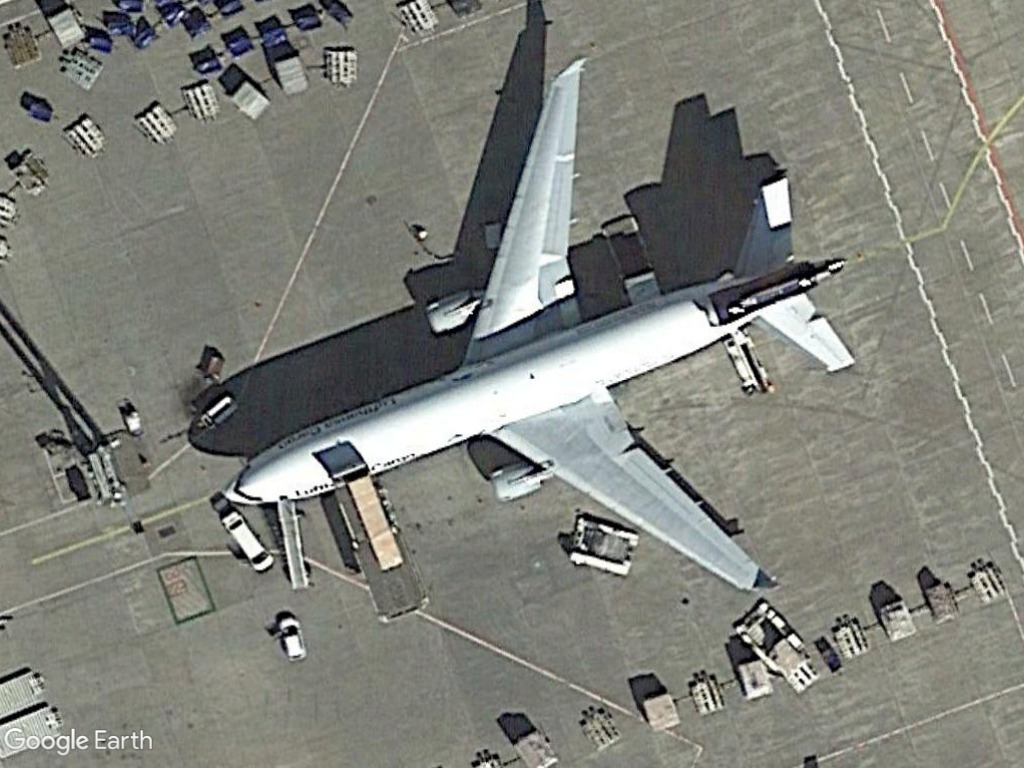airliner: (215, 53, 860, 599)
van: (274, 612, 313, 665)
